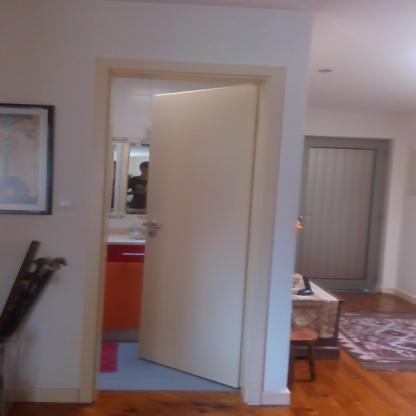closed: (297, 132, 398, 294)
semi: (83, 56, 274, 387)
